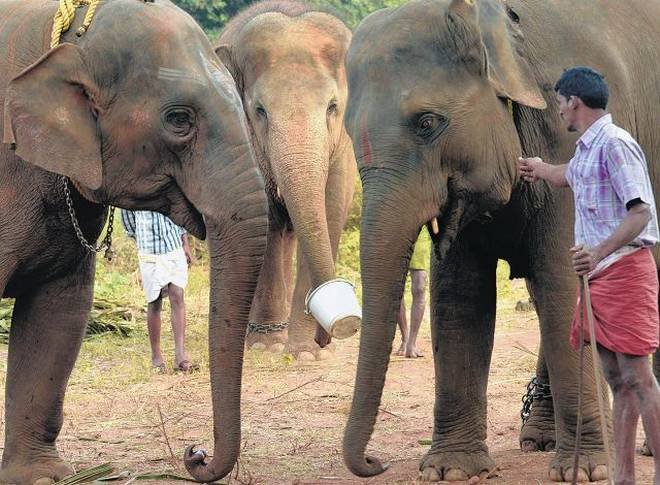Indian Elephant: (329, 3, 653, 485), (20, 4, 280, 485), (203, 5, 364, 371)
